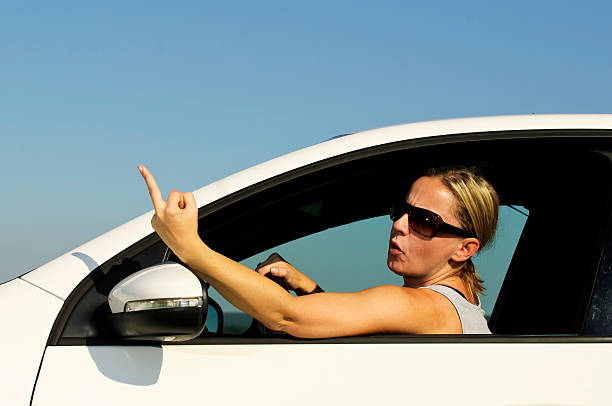insulting_gesture: (137, 162, 207, 257)
